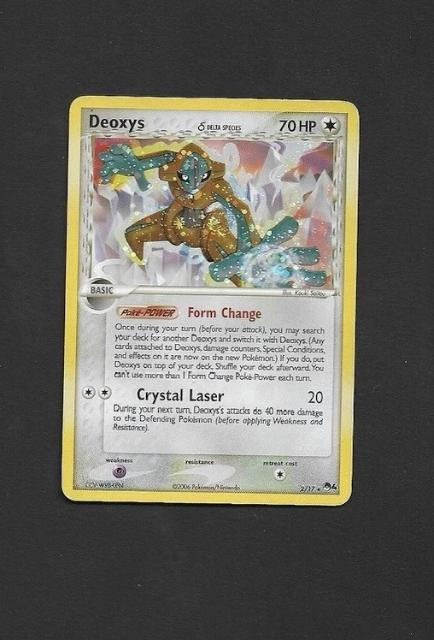Card: (56, 92, 367, 510)
Name: (133, 385, 238, 404), (87, 111, 144, 135)
